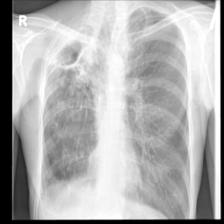tuberculosis: (29, 3, 196, 219)
